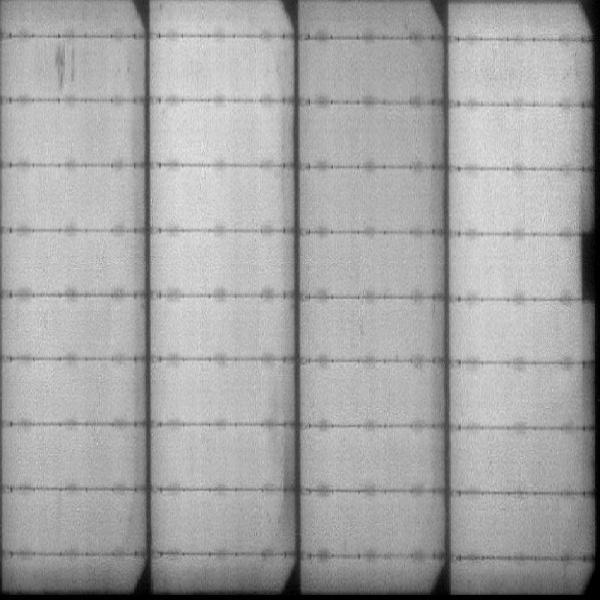black_border: (578, 226, 600, 304)
scratch: (43, 37, 81, 87)
